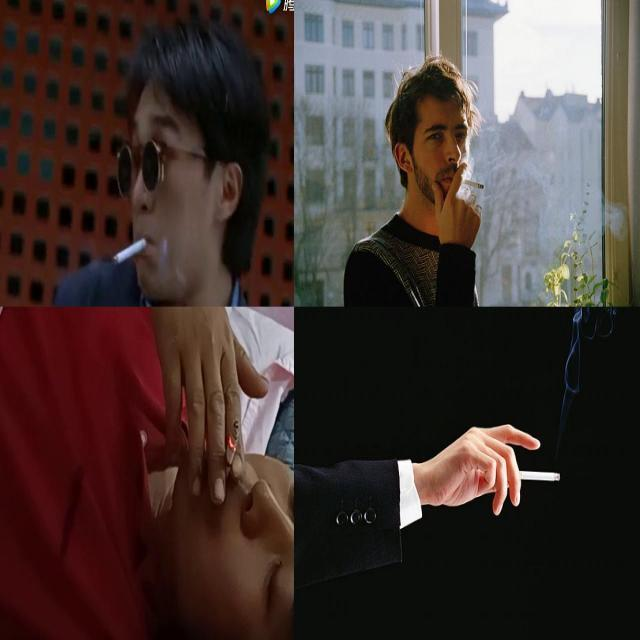cigarette: (504, 464, 564, 490), (222, 420, 240, 480), (112, 237, 148, 265), (456, 177, 486, 190)
